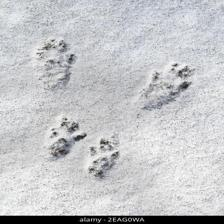squirrel: (45, 116, 89, 163)
